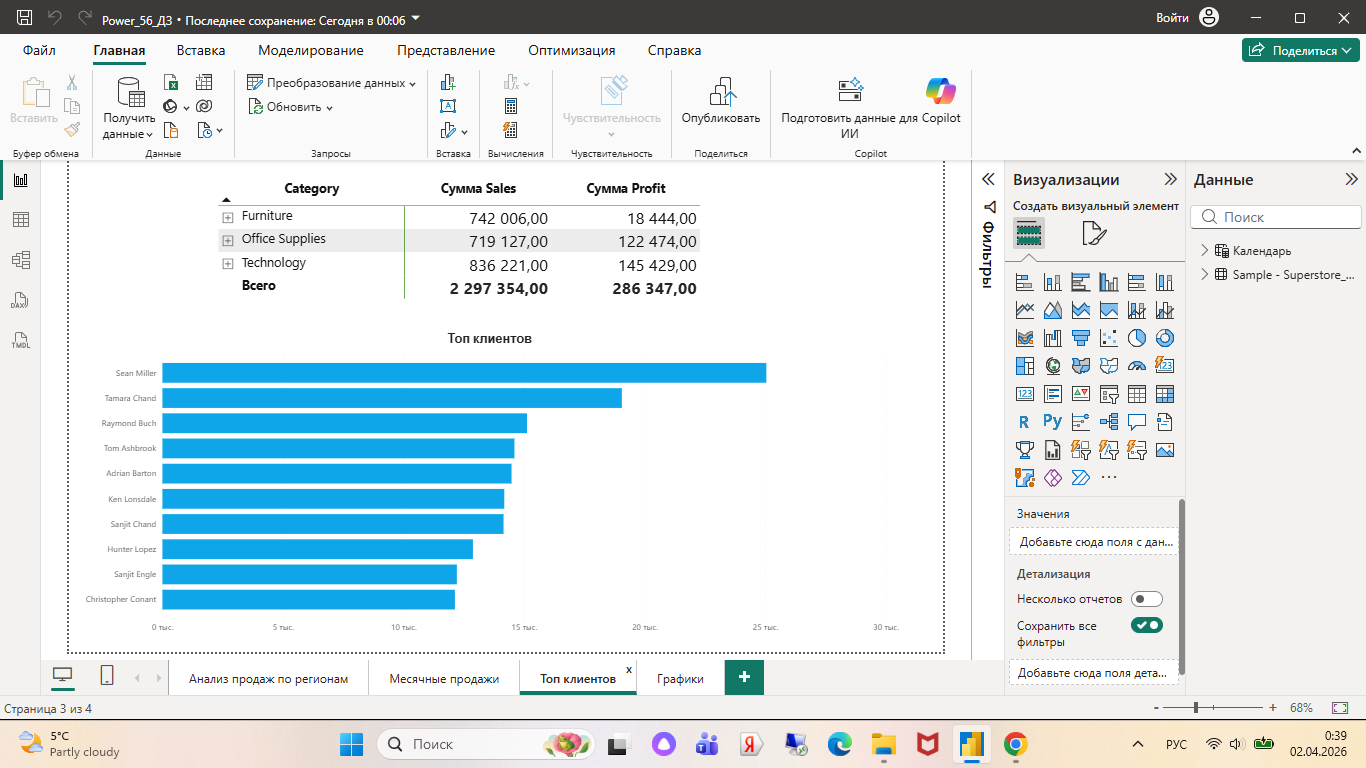

The page's visual inventory and layout, read from the dashboard file:
{"tool":"powerbi","page":{"name":"Топ клиентов","canvas":[1280,720],"ordinal":2},"visuals":[{"type":"pivotTable","fields":{"Rows":["Sample - Superstore_Orders.Category","Sample - Superstore_Orders.Product Name"],"Values":["Sum(Sample - Superstore_Orders.Sales)","Sum(Sample - Superstore_Orders.Profit)"]},"box":[213.3,21.8,853.3,216.7],"z":0},{"type":"barChart","title":"Топ клиентов","fields":{"Category":["Sample - Superstore_Orders.Customer Name"],"Y":["Sum(Sample - Superstore_Orders.Sales)"]},"box":[11.8,250.3,1207.8,451.9],"z":1000}]}

Visuals, with their boxes on the page's 1280x720 design canvas (x1, y1, x2, y2). These are canvas units, not pixel positions in the 1366x768 screenshot, which may show the page scaled, cropped or inside an application window:
pivotTable - Sample - Superstore_Orders.Category x Sample - Superstore_Orders.Product Name: x1=213 y1=22 x2=1067 y2=238
"Топ клиентов" barChart: x1=12 y1=250 x2=1220 y2=702
